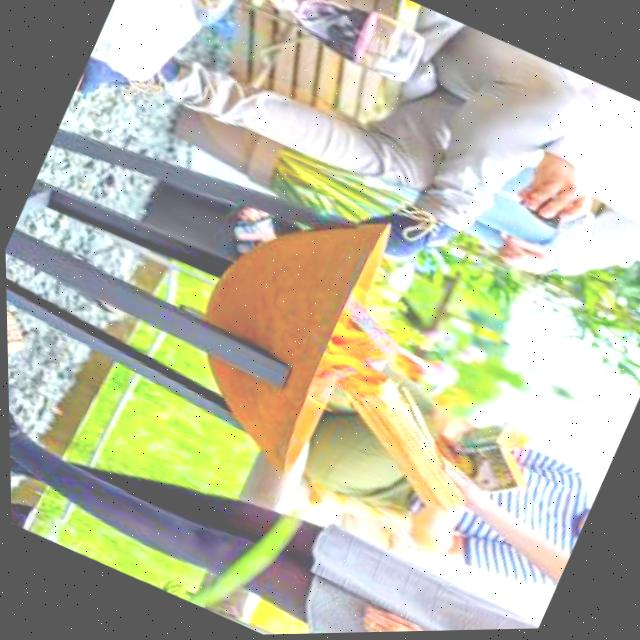Fire: (294, 271, 444, 414)
